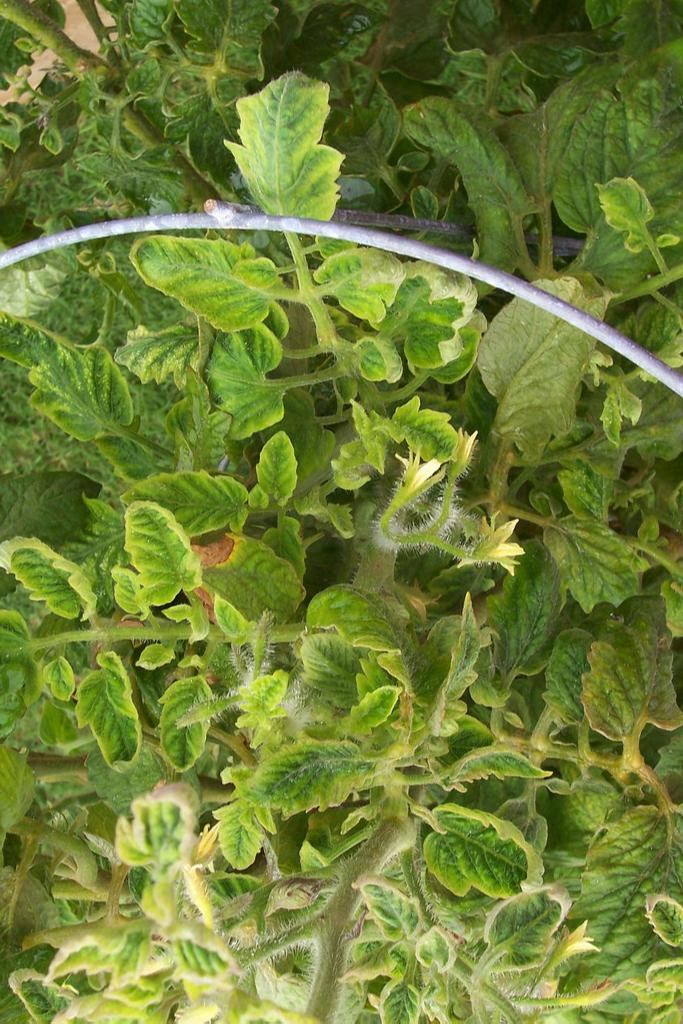Tomato leaf yellow virus: (227, 62, 346, 259), (225, 733, 407, 833), (128, 237, 288, 337), (421, 803, 555, 917), (107, 496, 215, 633), (300, 623, 407, 721), (88, 472, 257, 534), (3, 516, 98, 625), (300, 237, 412, 322), (79, 647, 148, 777), (589, 174, 668, 283), (212, 772, 272, 880), (160, 672, 215, 778), (250, 427, 307, 528), (370, 406, 462, 468)
